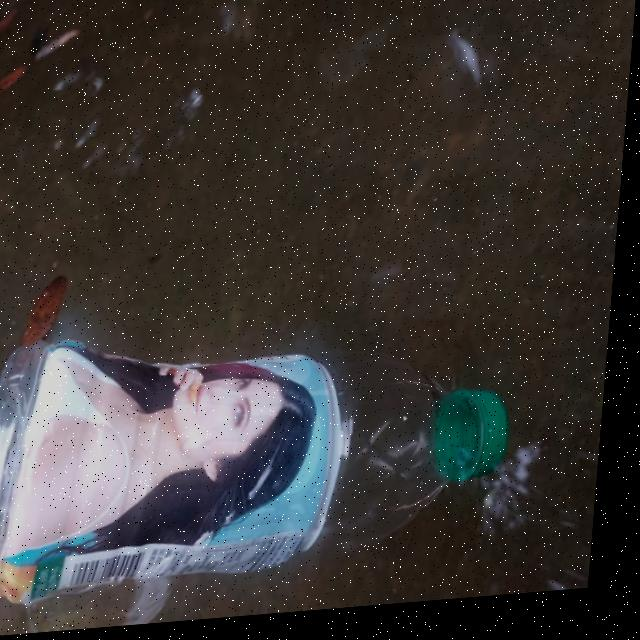leaf: (18, 271, 89, 343), (0, 53, 30, 119)
waterbottle: (0, 313, 583, 639)
